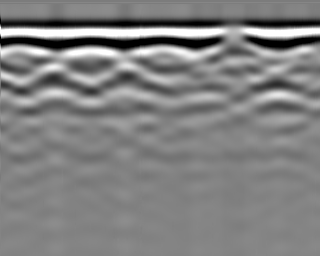pipe: (212, 24, 258, 51)
steel: (30, 63, 83, 103), (104, 67, 153, 106)
